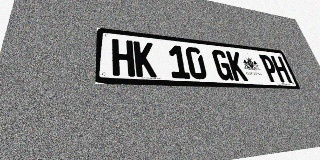0: (184, 46, 208, 80)
1: (167, 45, 190, 79)
G: (211, 49, 234, 81)
H: (112, 39, 135, 77), (270, 56, 292, 83)
K: (133, 41, 157, 78), (225, 51, 248, 81)
P: (259, 54, 281, 82)
